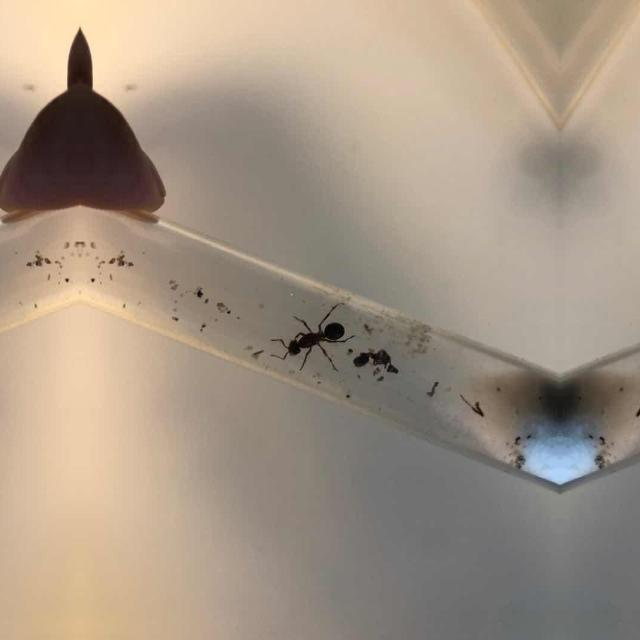Formica: (276, 302, 346, 372)
